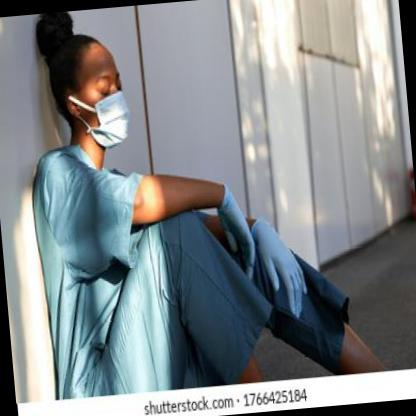Gloves: (250, 214, 310, 324), (216, 180, 258, 280)
